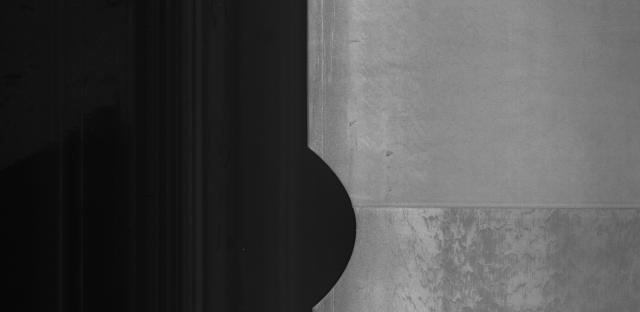crescent_gap: (286, 135, 372, 312)
welding_line: (342, 191, 640, 219)
